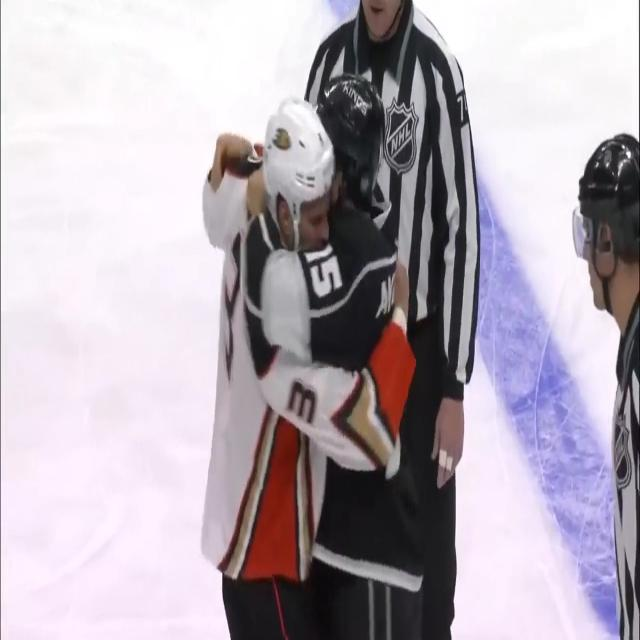fight: (200, 74, 421, 640)
